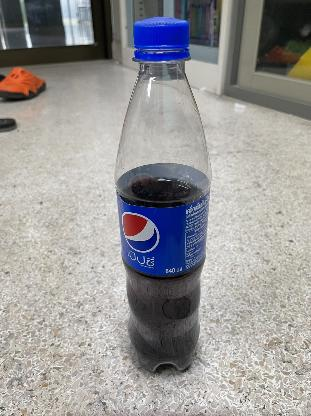Plastic Bottle: (103, 9, 234, 389)
